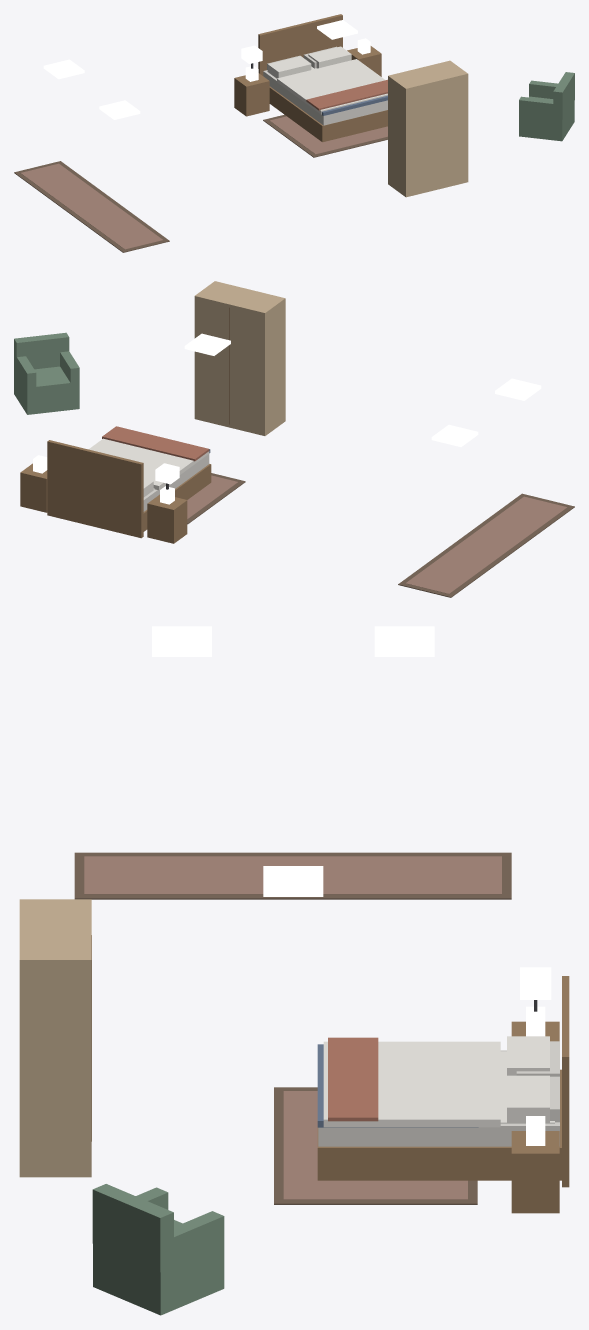
File: fine-s1.glb
3 renders of one model, top to bottom at view 1: azimuth 30°, elevation 25°; view 2: azimuth 150°, elevation 25°; view 3: azimuth 270°, elevation 25°, orthographic. The views are drawn at different scales.
Visible parts, largest first — view 1: soft-s1, dresser.000, bed-frame.000, lounge-chair.000, nightstand.000, nightstand.001, ceiling-lamp.003, ceiling-lamp.002, ceiling-lamp.004; view 2: dresser.000, soft-s1, bed-frame.000, lounge-chair.000, nightstand.000, nightstand.001, ceiling-lamp.002, ceiling-lamp.003, ceiling-lamp.004; view 3: soft-s1, dresser.000, bed-frame.000, lounge-chair.000, nightstand.001, ceiling-lamp.002, ceiling-lamp.004, ceiling-lamp.003, nightstand.000.
Part boxes in pixels (x1=…): soft-s1: x1=14, y1=45, x2=387, y2=252; dresser.000: x1=388, y1=60, x2=468, y2=197; bed-frame.000: x1=258, y1=14, x2=387, y2=142; lounge-chair.000: x1=519, y1=72, x2=574, y2=141; nightstand.000: x1=234, y1=65, x2=269, y2=116; nightstand.001: x1=347, y1=38, x2=381, y2=76; ceiling-lamp.003: x1=99, y1=100, x2=140, y2=119; ceiling-lamp.002: x1=43, y1=59, x2=84, y2=79; ceiling-lamp.004: x1=317, y1=20, x2=357, y2=39; dresser.000: x1=194, y1=281, x2=285, y2=435; soft-s1: x1=88, y1=426, x2=574, y2=597; bed-frame.000: x1=47, y1=440, x2=211, y2=538; lounge-chair.000: x1=14, y1=332, x2=79, y2=414; nightstand.000: x1=147, y1=486, x2=187, y2=543; nightstand.001: x1=20, y1=455, x2=47, y2=512; ceiling-lamp.002: x1=431, y1=424, x2=478, y2=446; ceiling-lamp.003: x1=495, y1=378, x2=541, y2=400; ceiling-lamp.004: x1=184, y1=333, x2=230, y2=355; soft-s1: x1=74, y1=852, x2=554, y2=1204; dresser.000: x1=19, y1=899, x2=91, y2=1177; bed-frame.000: x1=317, y1=976, x2=569, y2=1187; lounge-chair.000: x1=92, y1=1184, x2=224, y2=1315; nightstand.001: x1=511, y1=1116, x2=559, y2=1213; ceiling-lamp.002: x1=374, y1=626, x2=434, y2=656; ceiling-lamp.004: x1=263, y1=866, x2=323, y2=896; ceiling-lamp.003: x1=152, y1=626, x2=211, y2=656; nightstand.000: x1=511, y1=1006, x2=559, y2=1041.
Size of the model in its own units: 9.12 by 2.2 by 4.59.
